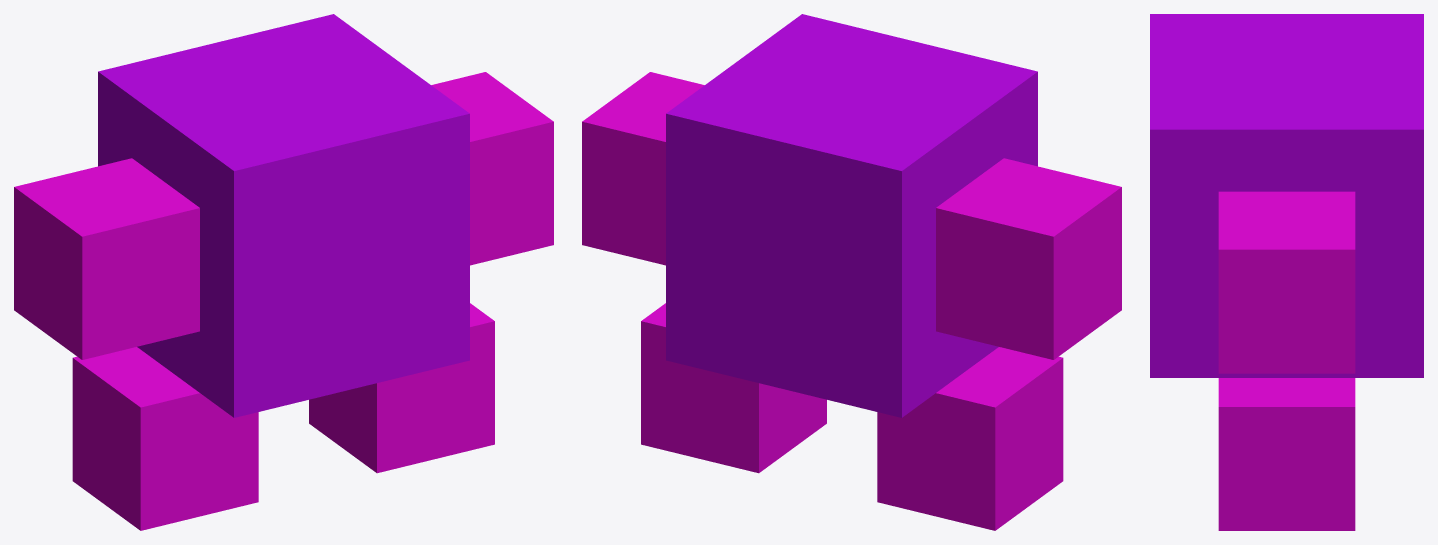
The model's file is Boo.dae.
3 renders of one model, left to right at view 1: azimuth 30°, elevation 25°; view 2: azimuth 150°, elevation 25°; view 3: azimuth 270°, elevation 25°, orthographic.
Parts seen in each view (by area): view 1: Cube, Cube.001, Cube.004, Cube.003, Cube.002; view 2: Cube, Cube.001, Cube.004, Cube.003, Cube.002; view 3: Cube, Cube.002, Cube.003.
Part boxes in pixels (x1,y1,x2,y2): Cube: [98, 14, 469, 417]; Cube.001: [14, 158, 199, 359]; Cube.004: [72, 347, 258, 530]; Cube.003: [309, 303, 494, 473]; Cube.002: [431, 72, 553, 265]; Cube: [666, 14, 1037, 417]; Cube.001: [936, 158, 1121, 359]; Cube.004: [877, 347, 1063, 530]; Cube.003: [641, 303, 826, 473]; Cube.002: [582, 72, 704, 265]; Cube: [1150, 14, 1423, 377]; Cube.002: [1218, 191, 1355, 373]; Cube.003: [1218, 378, 1355, 530].
Size of the model in its own units: 4 by 2 by 3.
